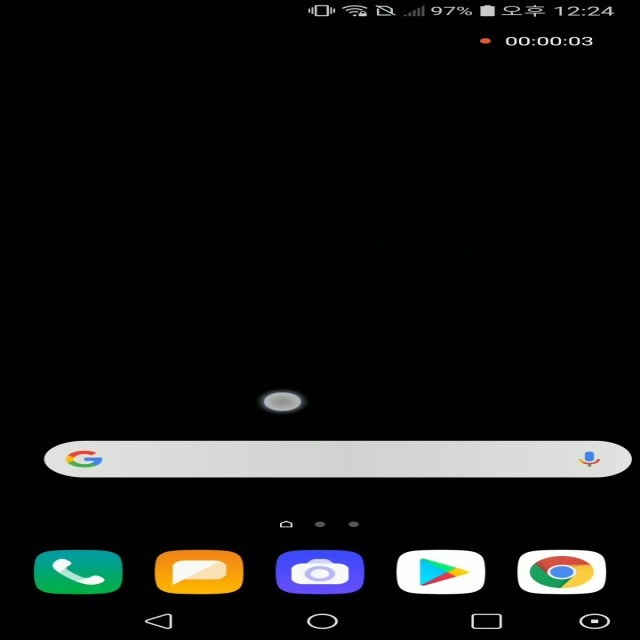Cursor: (259, 391, 304, 413)
